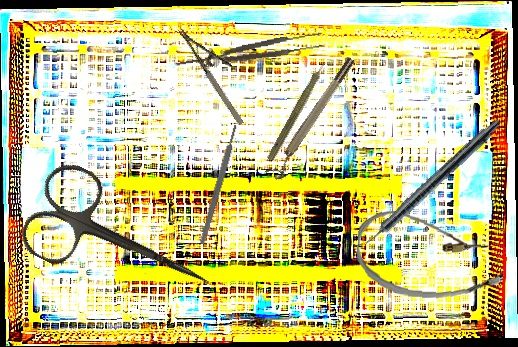Cannula: (354, 207, 507, 304)
Fixation Ring: (264, 55, 363, 183)
Handpiece: (351, 113, 505, 258), (265, 54, 334, 164)
Iris Scissors: (14, 155, 230, 330)
Needle Holder: (177, 15, 261, 128)
Scalpel Handle: (198, 123, 240, 246)
Tissue Forceps: (173, 30, 325, 73)
